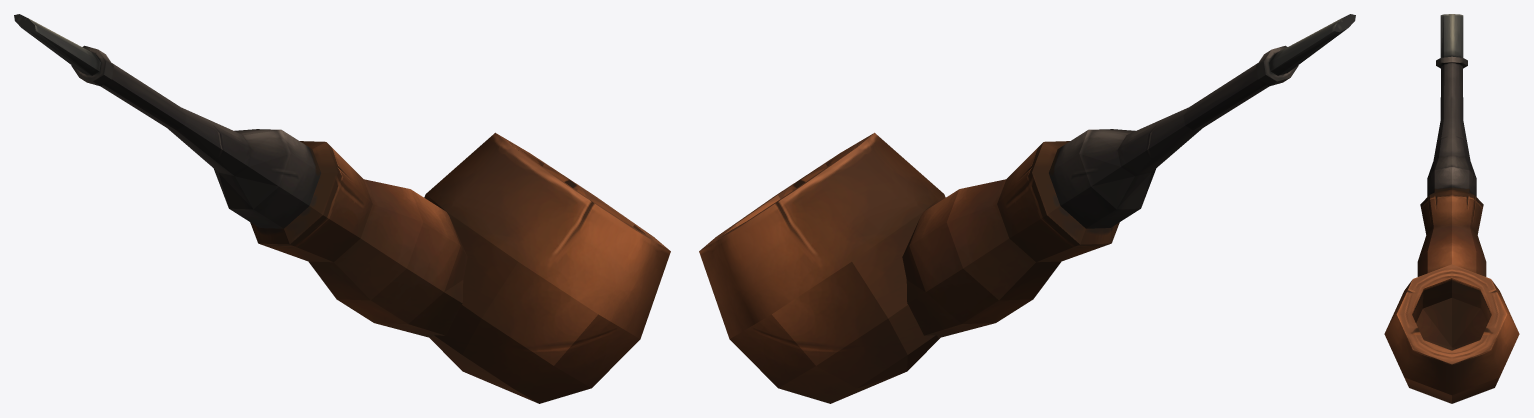
File: 92_cigarette pipe.FBX
3 renders of one model, left to right at view 1: azimuth 30°, elevation 25°; view 2: azimuth 150°, elevation 25°; view 3: azimuth 270°, elevation 25°, orthographic. The views are drawn at different scales.
Parts seen in each view (by area): view 1: Object044; view 2: Object044; view 3: Object044.
Boxes of the visible parts, x1,y1,x2,y2 form: Object044: (14, 14, 670, 403); Object044: (699, 14, 1355, 403); Object044: (1384, 14, 1519, 403).
Size of the model in its own units: 65.65 by 49.22 by 23.47.
